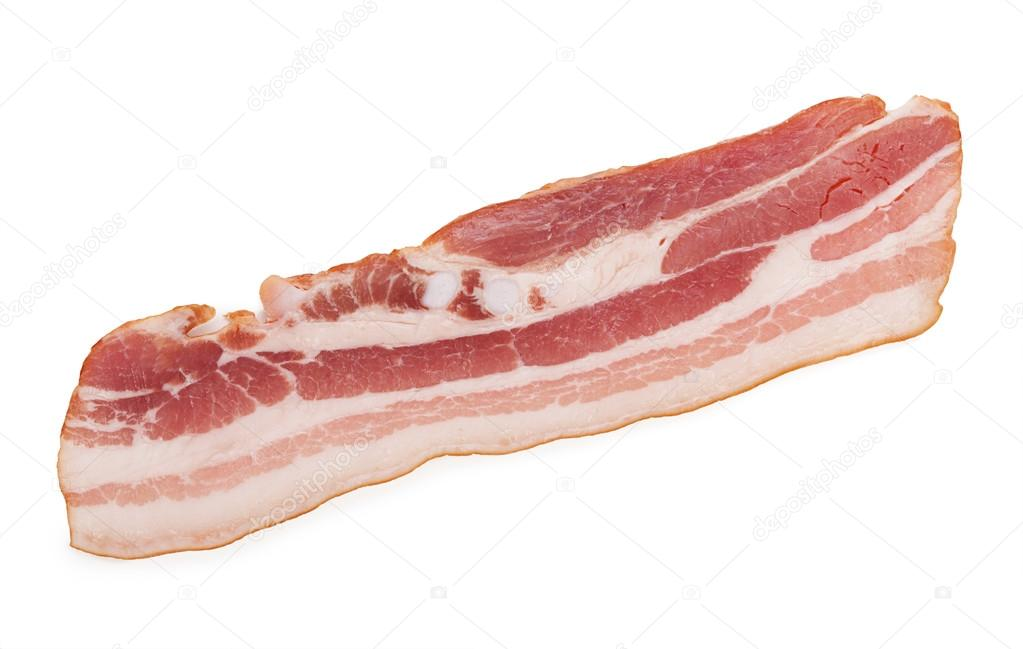Bacon: (36, 76, 975, 610)
